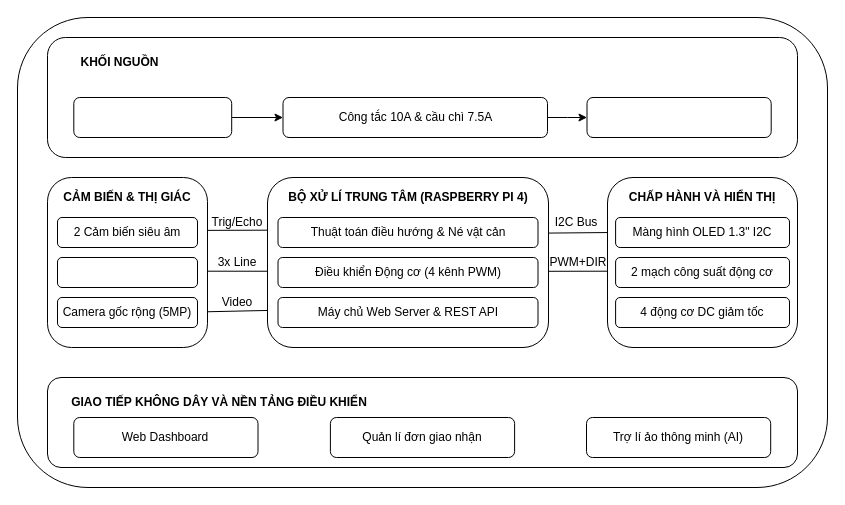
The diagram is 845 pixels wide and 505 high, and some of its shapes have lost their labels. The shapes that lost their labels are listed below. From the top down, each one's centre as x and y in pixels, then its label:
At pixel 152 117: "Pin Li-ion 3S2p".
At pixel 678 117: "Hạ áp Buck (5V-5A)".
At pixel 127 272: "Cảm biến dò line (3 mắt)".
